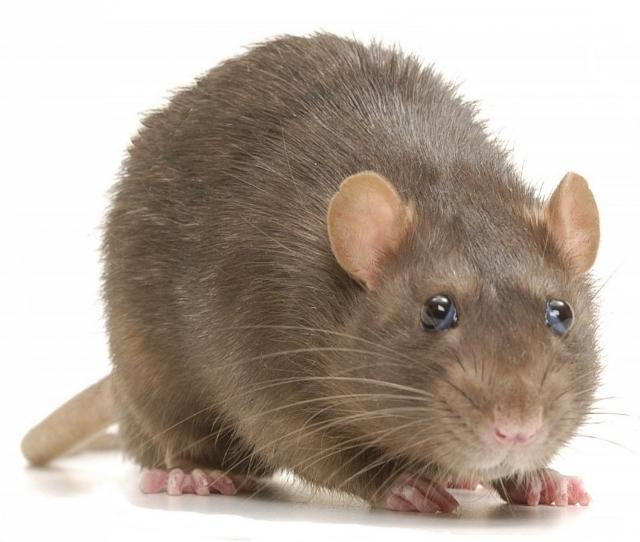rat: (7, 22, 623, 528)
